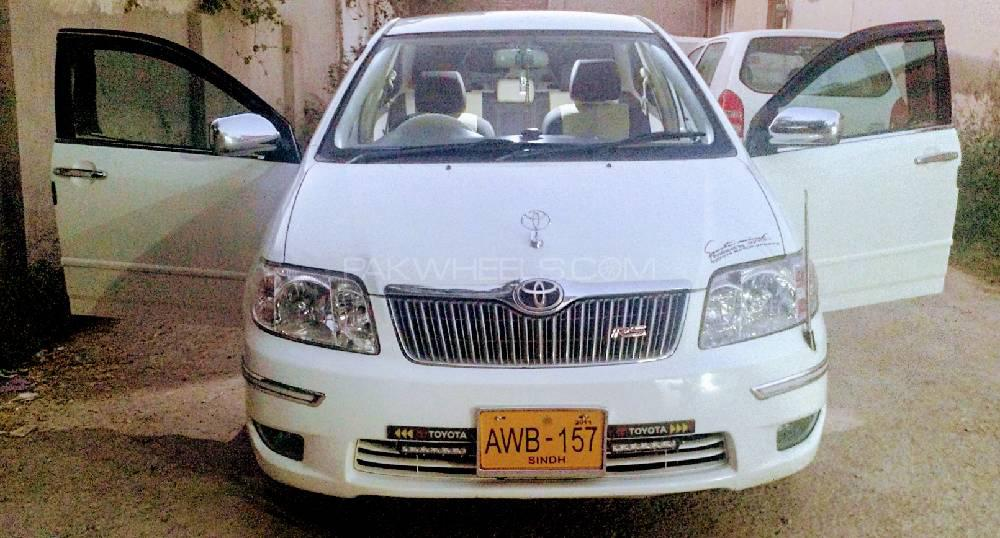license plate: (479, 413, 605, 465)
